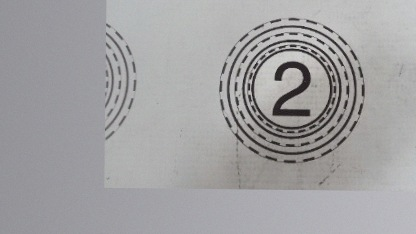2r: (216, 14, 365, 164)
